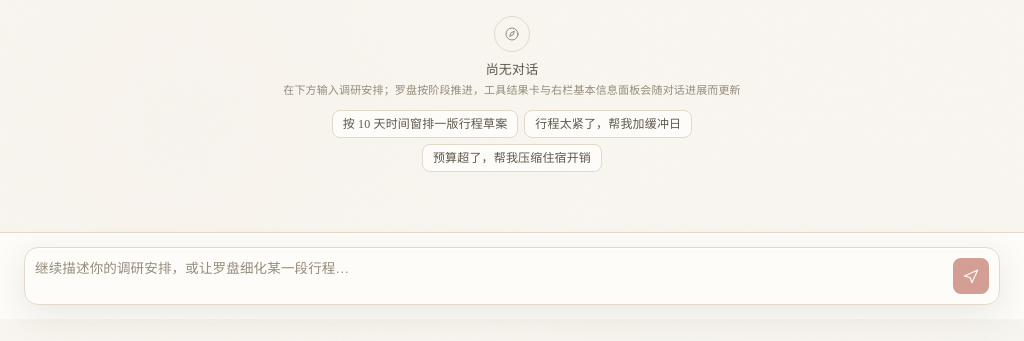
空对话示例 chips → Composer 草稿通道 › 空态按当前阶段出题，点击写入输入框并聚焦：通道清空、不自动发送
// itinerary_planning 阶段的示例问题在位（该阶段右栏面板对应预算/行程能力）
Click the button "按 10 天时间窗排一版行程草案".
click(425, 124)  # box 332,110 -> 518,138
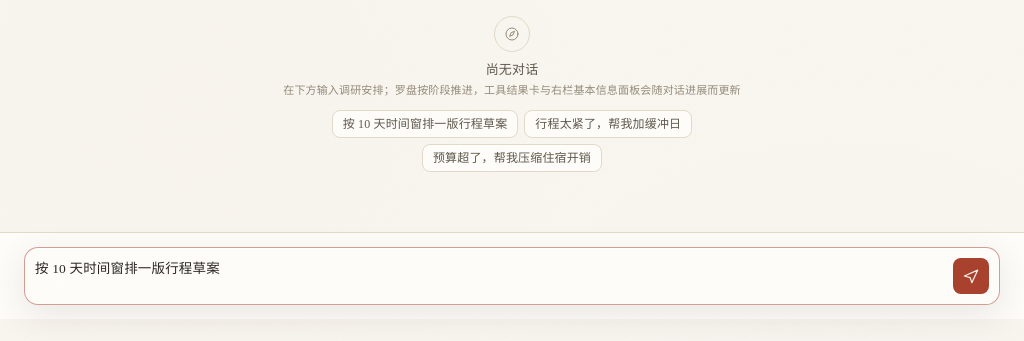
Check: the text box holds "按 10 天时间窗排一版行程草案", box 35,258 -> 941,280
